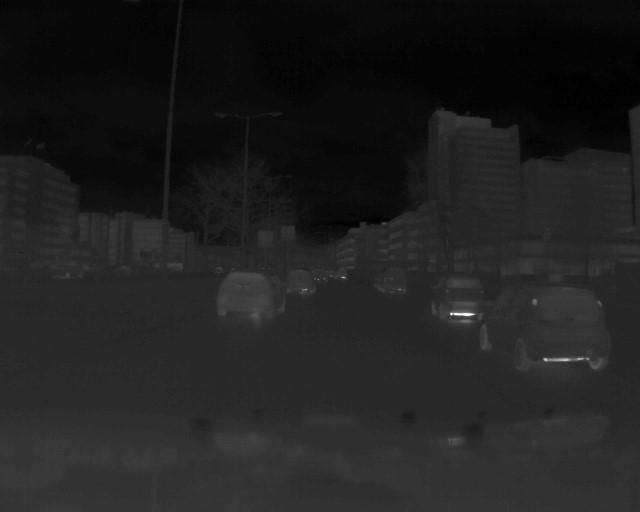car: (477, 283, 617, 371), (212, 265, 295, 318), (428, 269, 483, 317), (378, 262, 414, 298), (291, 264, 321, 295), (52, 257, 91, 280)
